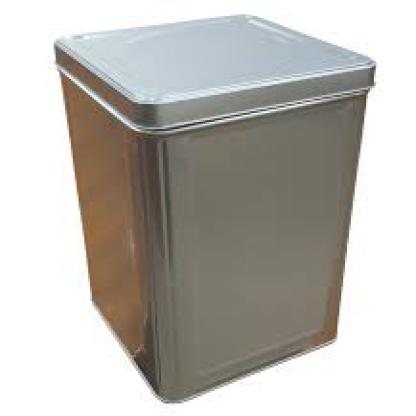METAL: (52, 13, 374, 402)
